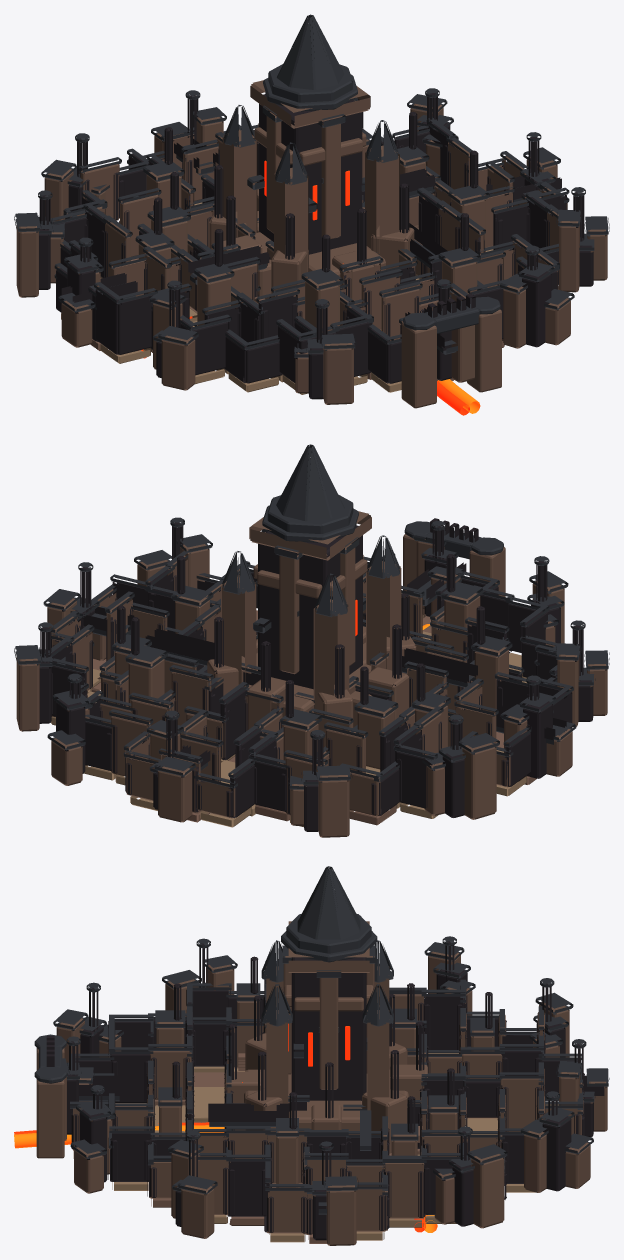
The model's file is lava-labyrinth-v10-rectilinear-city.glb.
3 views of the same model, one above another, from view 1: azimuth 30°, elevation 25°; view 2: azimuth 150°, elevation 25°; view 3: azimuth 270°, elevation 25° (orthographic). The views are drawn at different scales.
Visible parts, largest first — view 1: I020_V10_CITY_MASONRY, I020_V10C_PERIMETER_FORGE_DISTRICTS, I020_V10_CITY_ARCHITECTURE, I020_V10_FORGE_CATHEDRAL, I020_V10C_CATHEDRAL_FACADE_AND_GATE, I020_V10_CITY_FLOORS, I020_V10_CITY_LAVA_ROUTES; view 2: I020_V10_CITY_ARCHITECTURE, I020_V10_CITY_MASONRY, I020_V10C_PERIMETER_FORGE_DISTRICTS, I020_V10_FORGE_CATHEDRAL, I020_V10C_CATHEDRAL_FACADE_AND_GATE, I020_V10_CITY_FLOORS; view 3: I020_V10_CITY_MASONRY, I020_V10_CITY_ARCHITECTURE, I020_V10C_PERIMETER_FORGE_DISTRICTS, I020_V10_FORGE_CATHEDRAL, I020_V10C_CATHEDRAL_FACADE_AND_GATE, I020_V10_CITY_FLOORS, I020_V10_CITY_LAVA_ROUTES.
Part boxes in pixels (box(x1,y1,x2,y2)): I020_V10_CITY_MASONRY: box(52, 123, 567, 383); I020_V10C_PERIMETER_FORGE_DISTRICTS: box(14, 88, 609, 404); I020_V10_CITY_ARCHITECTURE: box(51, 99, 569, 350); I020_V10_FORGE_CATHEDRAL: box(209, 14, 414, 304); I020_V10C_CATHEDRAL_FACADE_AND_GATE: box(254, 74, 501, 408); I020_V10_CITY_FLOORS: box(61, 202, 558, 394); I020_V10_CITY_LAVA_ROUTES: box(141, 316, 480, 415); I020_V10_CITY_ARCHITECTURE: box(44, 550, 573, 817); I020_V10_CITY_MASONRY: box(49, 552, 572, 818); I020_V10C_PERIMETER_FORGE_DISTRICTS: box(14, 517, 609, 837); I020_V10_FORGE_CATHEDRAL: box(207, 444, 416, 729); I020_V10C_CATHEDRAL_FACADE_AND_GATE: box(253, 505, 505, 674); I020_V10_CITY_FLOORS: box(51, 610, 536, 827); I020_V10_CITY_MASONRY: box(73, 970, 583, 1234); I020_V10_CITY_ARCHITECTURE: box(70, 956, 584, 1234); I020_V10C_PERIMETER_FORGE_DISTRICTS: box(53, 936, 609, 1245); I020_V10_FORGE_CATHEDRAL: box(225, 866, 427, 1153); I020_V10C_CATHEDRAL_FACADE_AND_GATE: box(34, 931, 377, 1158); I020_V10_CITY_FLOORS: box(73, 1053, 558, 1243); I020_V10_CITY_LAVA_ROUTES: box(14, 1122, 437, 1232).
Size of the model in its own units: 17.72 by 9.61 by 18.62.
